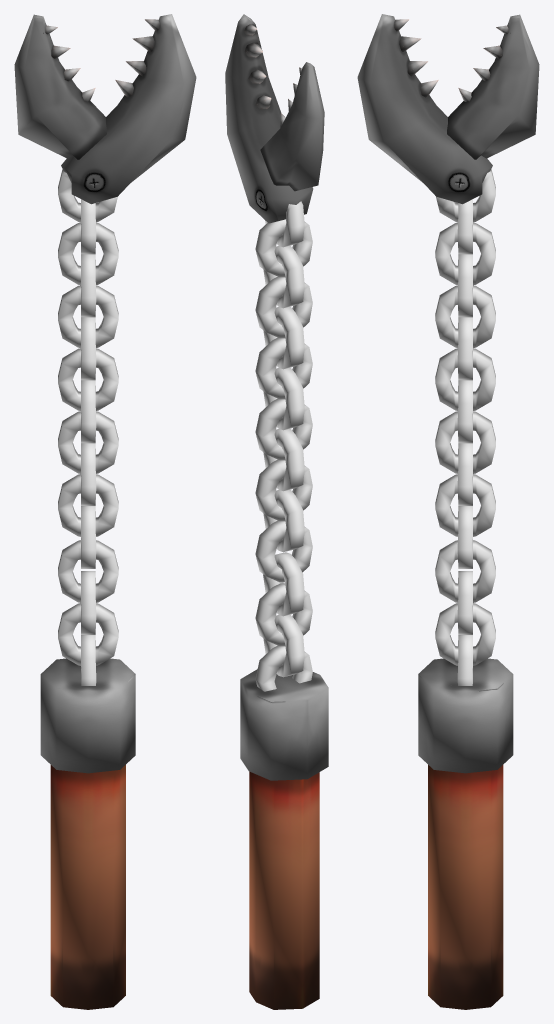
Rendered from ClawFlail.fbx.
The picture shows the model from 3 angles, left to right: view 1: azimuth 90°, elevation 25°; view 2: azimuth 210°, elevation 25°; view 3: azimuth 270°, elevation 25°; orthographic projection. The views are drawn at different scales.
Visible parts, largest first — view 1: Chains, FlailHandle, Claw1, FlailHilt, Claw2, ClawTeeth, ClawTeeth2; view 2: Chains, FlailHandle, FlailHilt, Claw1, Claw2, ClawTeeth; view 3: Chains, FlailHandle, Claw1, FlailHilt, Claw2, ClawTeeth, ClawTeeth2.
Part boxes in pixels (x1,y1,x2,y2): Chains: [58, 169, 118, 685]; FlailHandle: [50, 765, 125, 1009]; Claw1: [61, 14, 196, 204]; FlailHilt: [40, 658, 135, 773]; Claw2: [14, 14, 106, 159]; ClawTeeth: [115, 19, 159, 97]; ClawTeeth2: [43, 25, 95, 101]; Chains: [255, 201, 312, 691]; FlailHandle: [249, 771, 319, 1009]; FlailHilt: [240, 669, 328, 780]; Claw1: [225, 14, 313, 223]; Claw2: [260, 62, 324, 191]; ClawTeeth: [244, 24, 271, 109]; Chains: [435, 169, 495, 685]; FlailHandle: [428, 765, 503, 1009]; Claw1: [357, 14, 492, 204]; FlailHilt: [418, 658, 513, 773]; Claw2: [447, 14, 539, 159]; ClawTeeth: [394, 19, 438, 97]; ClawTeeth2: [458, 25, 510, 101].
Bounding box in the file's own units: 24.54 × 312 × 52.45.
5 materials, 4 textured.
